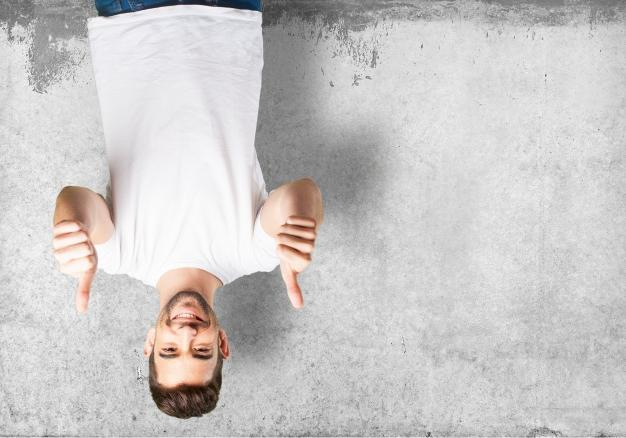thumbsdown: (53, 220, 97, 312), (277, 215, 316, 308)
